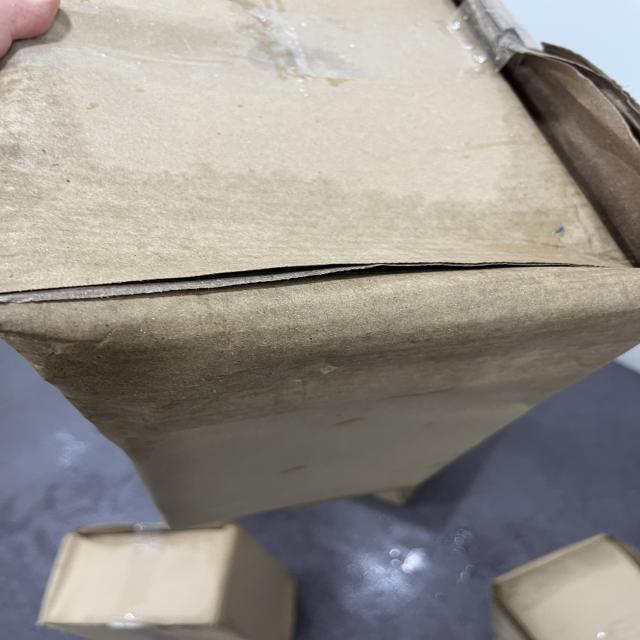wet: (11, 145, 640, 423)
